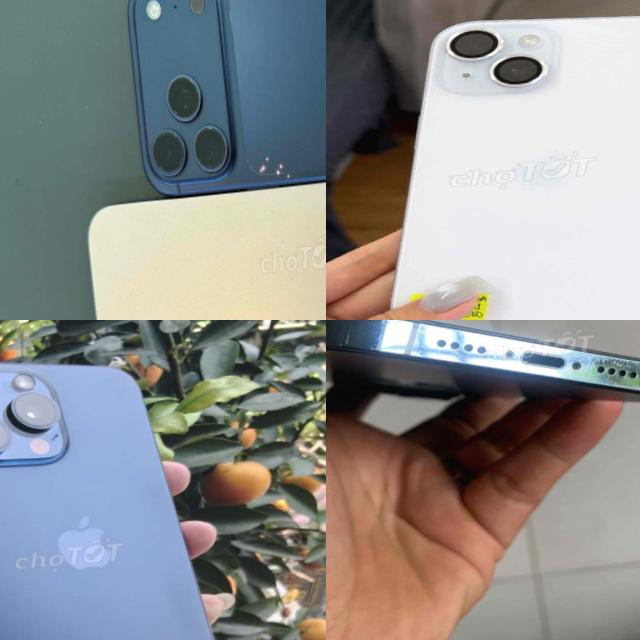gen_12_13: (326, 320, 640, 456)
gen_15: (374, 0, 640, 320), (0, 321, 255, 640)
gen_17: (127, 0, 326, 193)
scratch: (326, 320, 640, 433), (248, 125, 313, 205)
